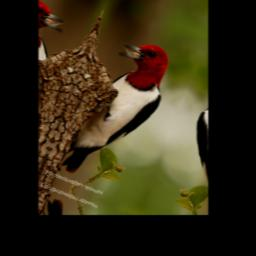Woodpecker: (60, 29, 180, 194)
